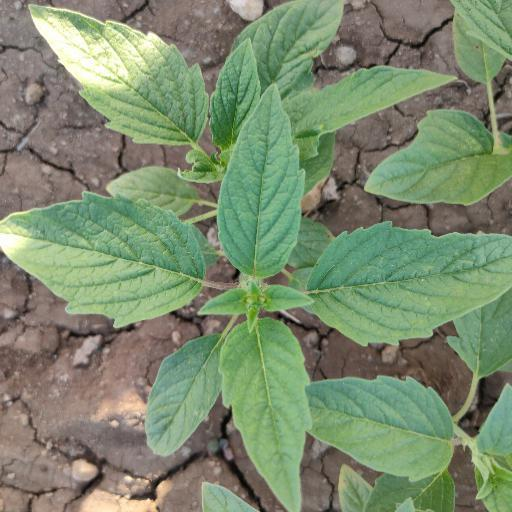weed: (9, 16, 493, 486)
